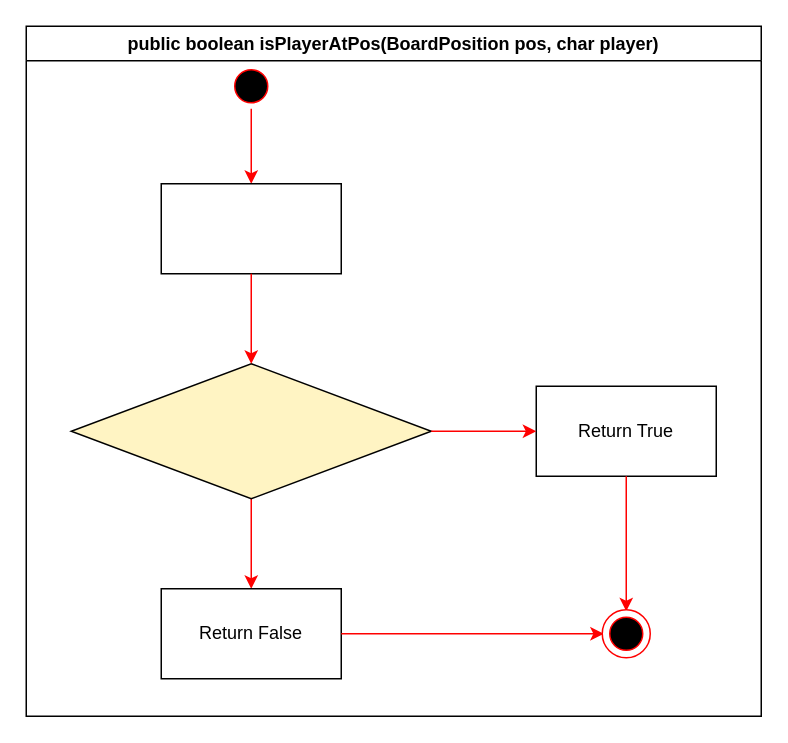
Some shapes in this 788 by 743 pixel diagram are drawn without their labels. The shapes that lost their labels are listed below. From the top down, each one's centre as x and y in pixels, then its label:
the point at 250,228: Check the marker at position pos on the gameboard to see if it matches player.
the point at 250,430: Is ticTacBoard[pos.getRow()][pos.getColumn()] equal to player?
